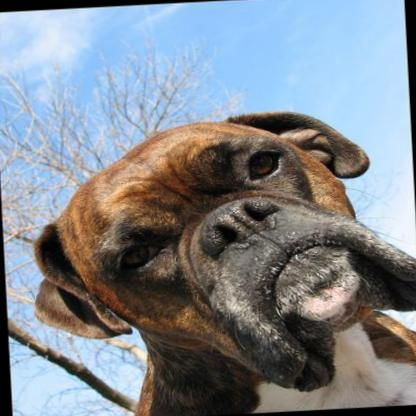boxer: (18, 102, 416, 416)
